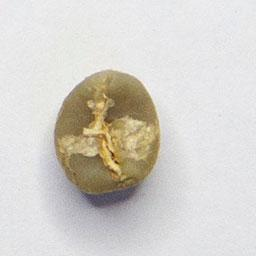premium: (51, 66, 162, 197)
